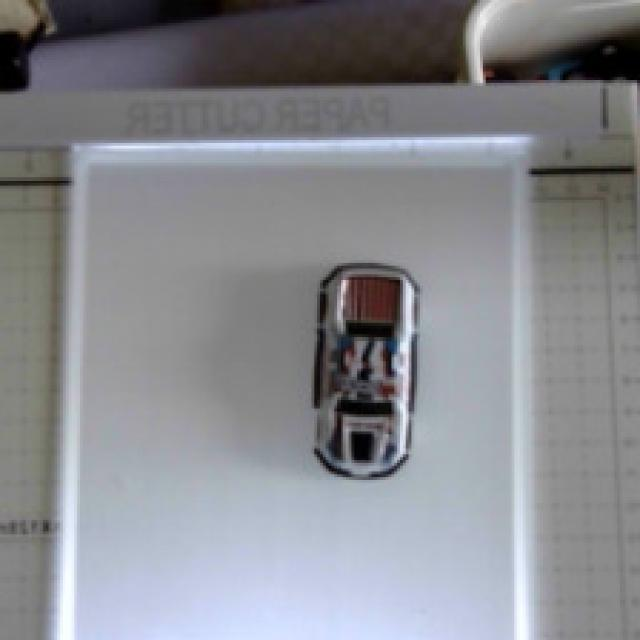Grey Car: (285, 228, 460, 520)
